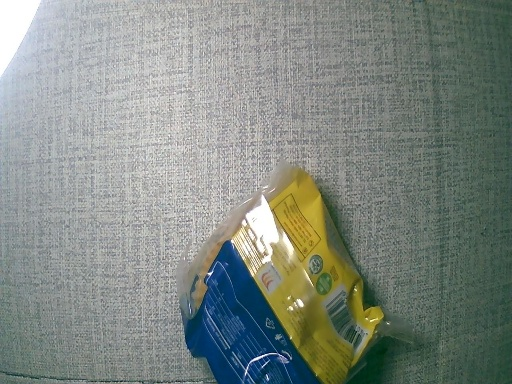plastic: (164, 160, 401, 384)
